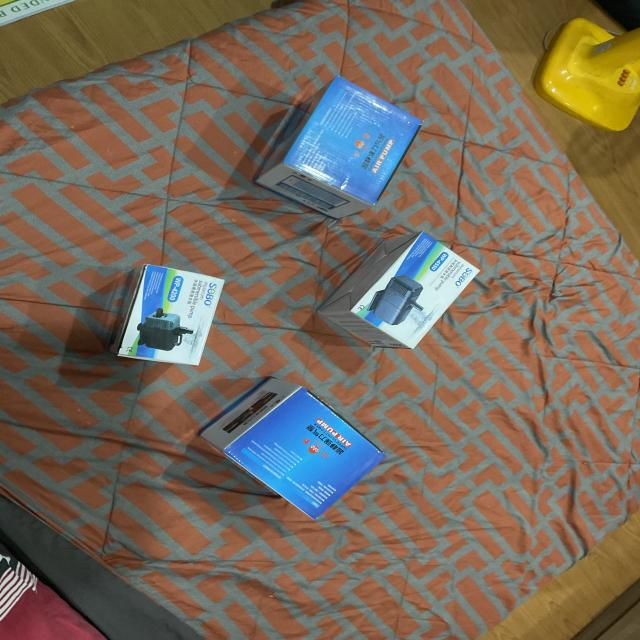SOBO_WP_4200: (310, 232, 497, 362), (109, 250, 231, 376)
YAMANO_LPP_20: (195, 372, 392, 528), (259, 76, 450, 230)
